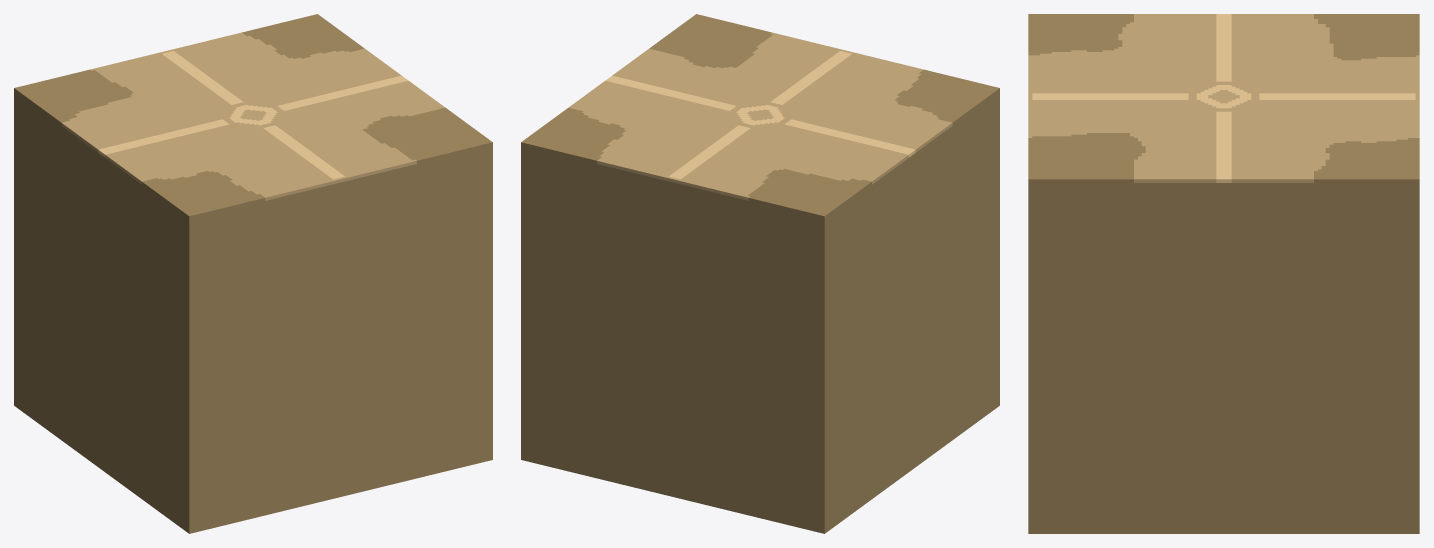
File: floor4.obj
3 views of the same model, side by side, from view 1: azimuth 30°, elevation 25°; view 2: azimuth 150°, elevation 25°; view 3: azimuth 270°, elevation 25° (orthographic). The views are drawn at different scales.
Parts seen in each view (by area): view 1: floor4; view 2: floor4; view 3: floor4.
Part boxes in pixels (x1,y1,x2,y2): floor4: [14, 14, 492, 533]; floor4: [521, 14, 999, 533]; floor4: [1028, 14, 1419, 533].
Bounding box in the file's own units: 100 × 100 × 100.
1 material, 1 textured.
